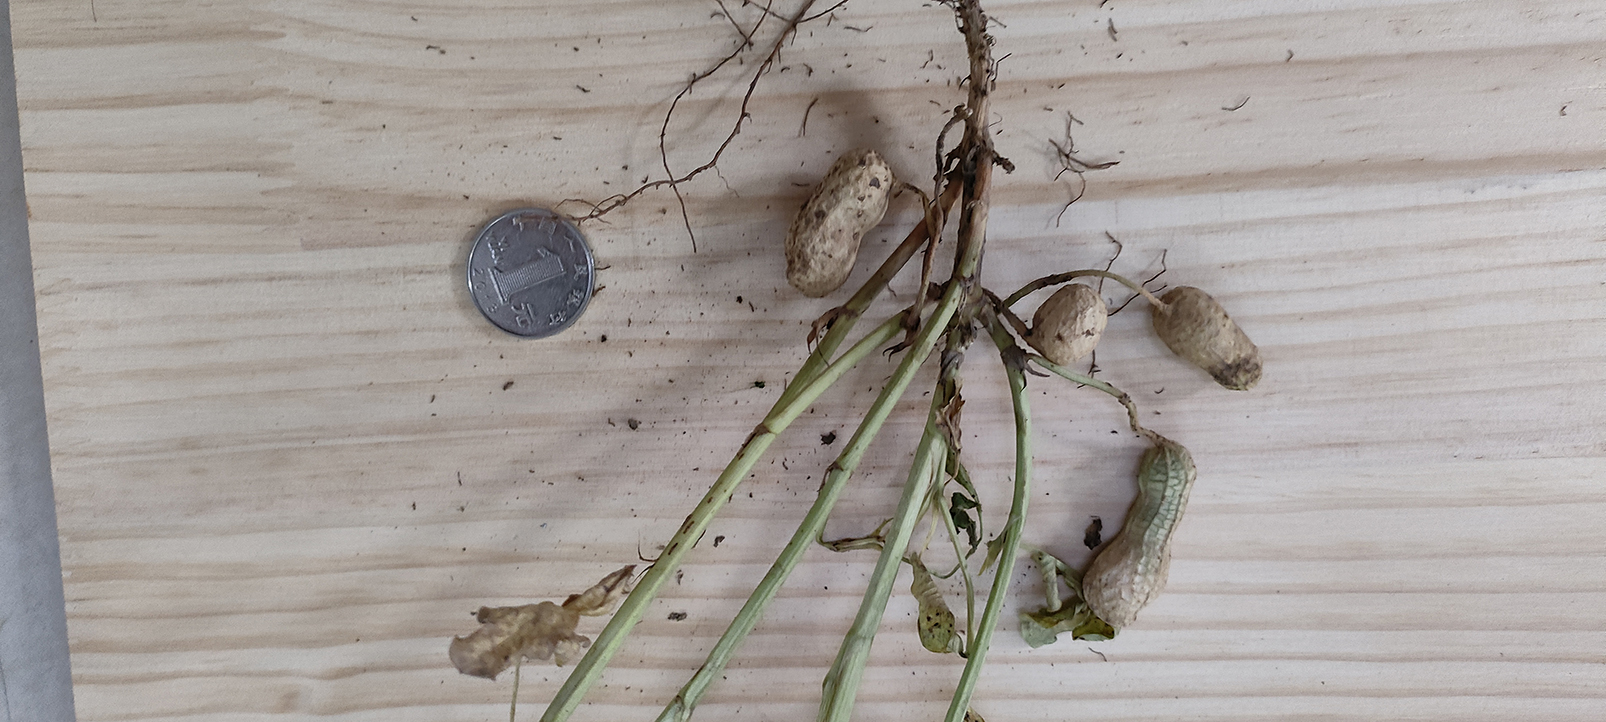h: (1076, 441, 1196, 631), (785, 148, 893, 301), (1153, 287, 1265, 391), (1031, 285, 1108, 365)
